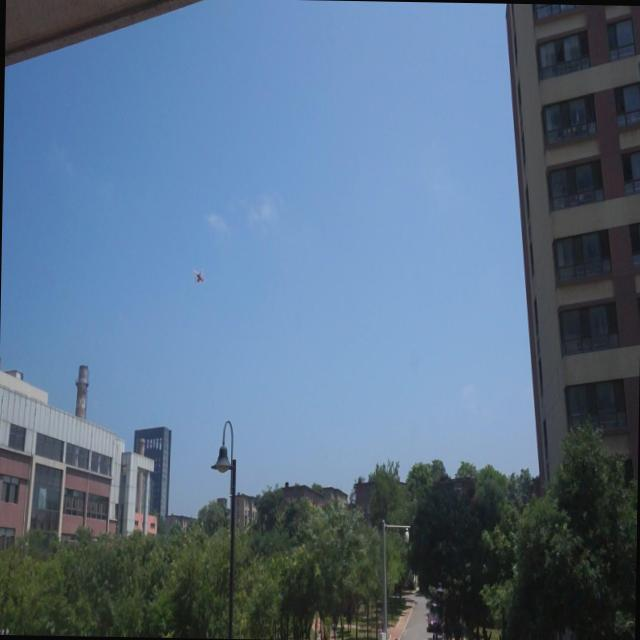drone: (192, 268, 205, 286)
